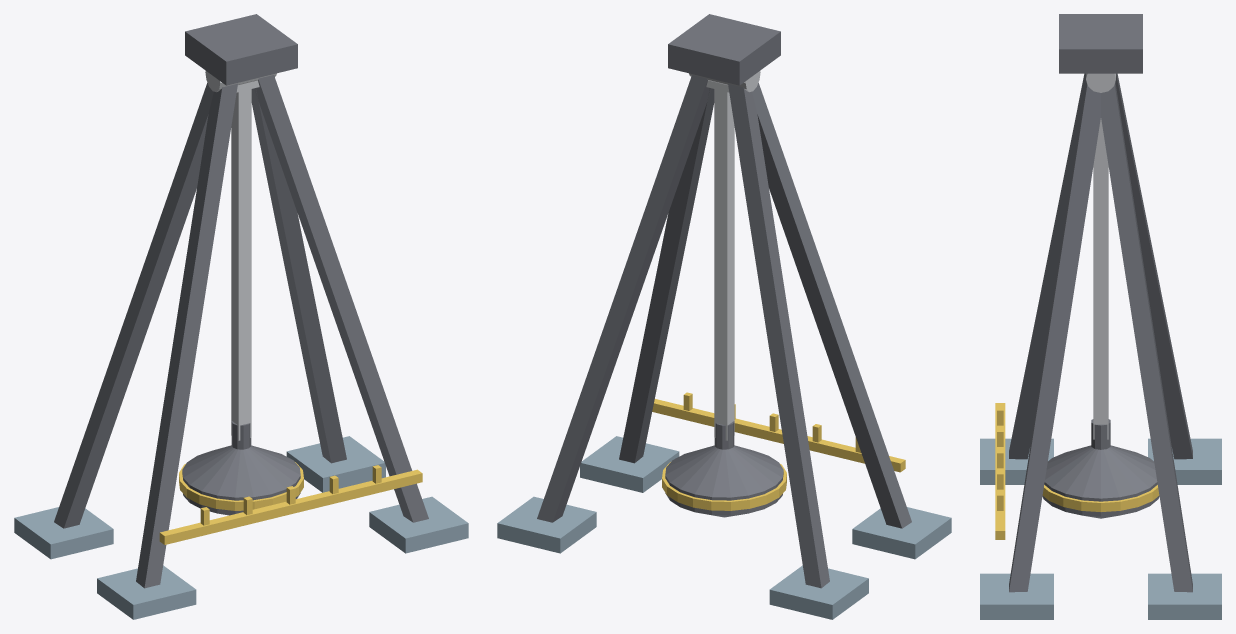
File: animated-mechanisms-kit-pendulum-weight-cfabd4de__24652.glb
3 views of the same model, side by side, from view 1: azimuth 30°, elevation 25°; view 2: azimuth 150°, elevation 25°; view 3: azimuth 270°, elevation 25° (orthographic).
Visible parts, largest first — view 1: pendulum-weight, pendulum/steel, pendulum/iron, pendulum/accent; view 2: pendulum-weight, pendulum/steel, pendulum/iron, pendulum/accent; view 3: pendulum-weight, pendulum/iron, pendulum/steel, pendulum/accent.
Boxes of the visible parts, box(x1,y1,x2,y2) form: pendulum-weight: box(14, 14, 468, 619); pendulum/steel: box(231, 80, 259, 440); pendulum/iron: box(182, 421, 300, 515); pendulum/accent: box(179, 462, 303, 510); pendulum-weight: box(497, 14, 951, 619); pendulum/steel: box(706, 80, 734, 440); pendulum/iron: box(665, 421, 783, 517); pendulum/accent: box(662, 462, 786, 510); pendulum-weight: box(980, 14, 1221, 619); pendulum/iron: box(1042, 419, 1159, 518); pendulum/steel: box(1093, 118, 1108, 439); pendulum/accent: box(1042, 485, 1159, 511).
Size of the model in its own units: 2.34 by 3.32 by 1.44.
